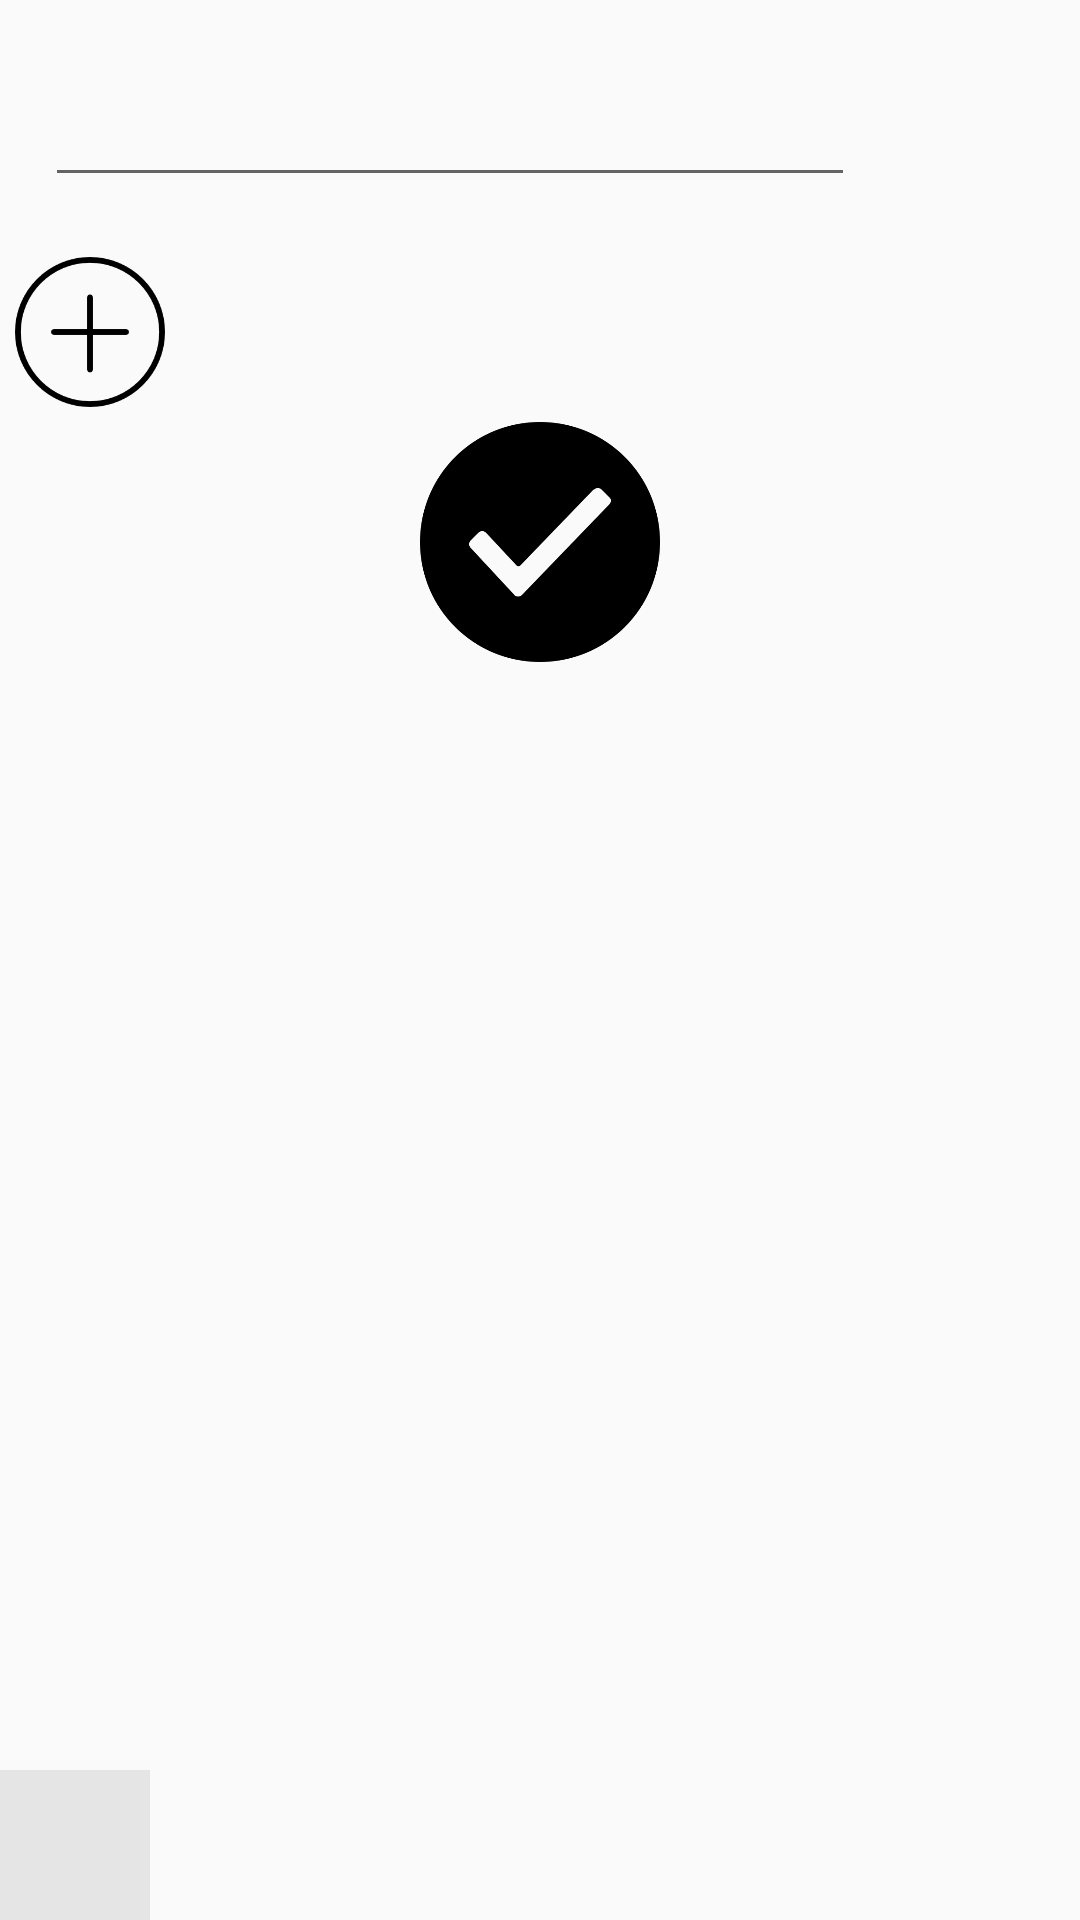

Where to tap for icons on this 1080px x 1920px app screen, as (x=x, y=y):
checked: (x=540, y=542)
plus: (x=90, y=332)
